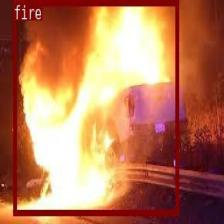fire: (13, 0, 177, 215)
